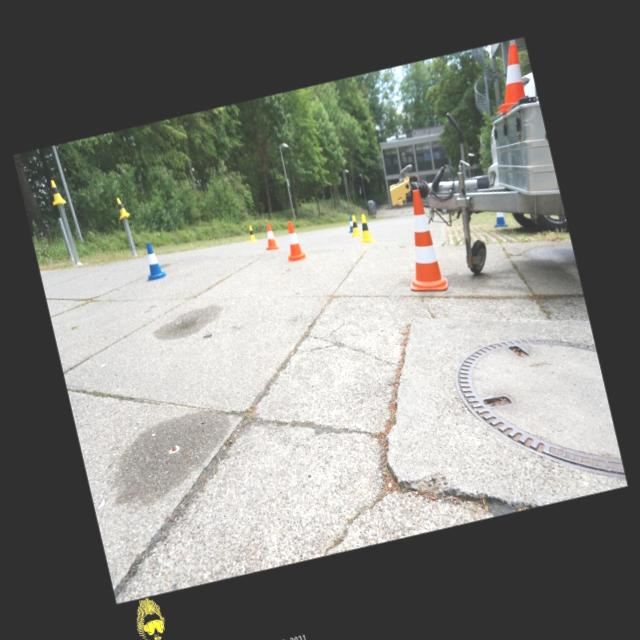blue_cone: (138, 240, 168, 282), (492, 210, 508, 229), (344, 215, 354, 232)
large_orange_cone: (389, 186, 449, 297)
orange_cone: (480, 43, 530, 114), (280, 218, 306, 262), (260, 221, 279, 251)
yellow_cone: (355, 212, 374, 244), (48, 178, 66, 205), (114, 194, 130, 220), (347, 214, 361, 237), (246, 224, 256, 242)
